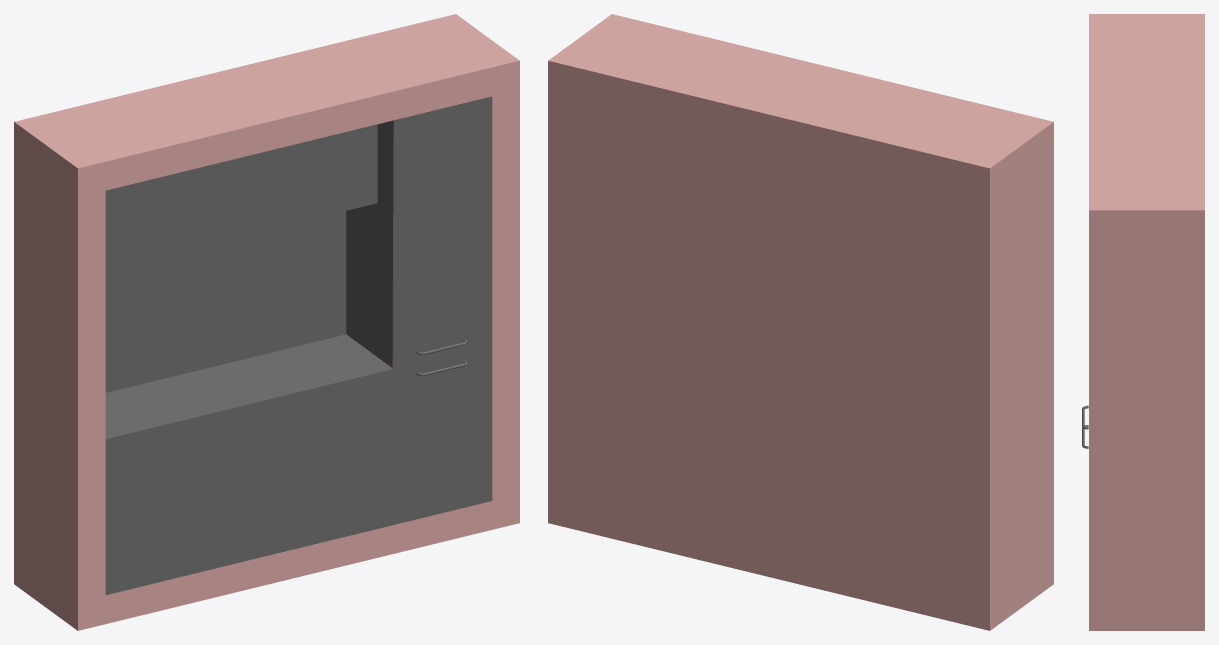
Rendered from kitchen2.glb.
3 views of the same model, side by side, from view 1: azimuth 30°, elevation 25°; view 2: azimuth 150°, elevation 25°; view 3: azimuth 270°, elevation 25° (orthographic). The views are drawn at different scales.
Parts seen in each view (by area): view 1: Kitchen2.002; view 2: Kitchen2.002; view 3: Kitchen2.002.
Boxes of the visible parts, box(x1,y1,x2,y2) form: Kitchen2.002: box(14, 14, 519, 630); Kitchen2.002: box(548, 14, 1053, 630); Kitchen2.002: box(1082, 14, 1204, 630).
Size of the model in its own units: 9.99 by 9.99 by 2.65.
